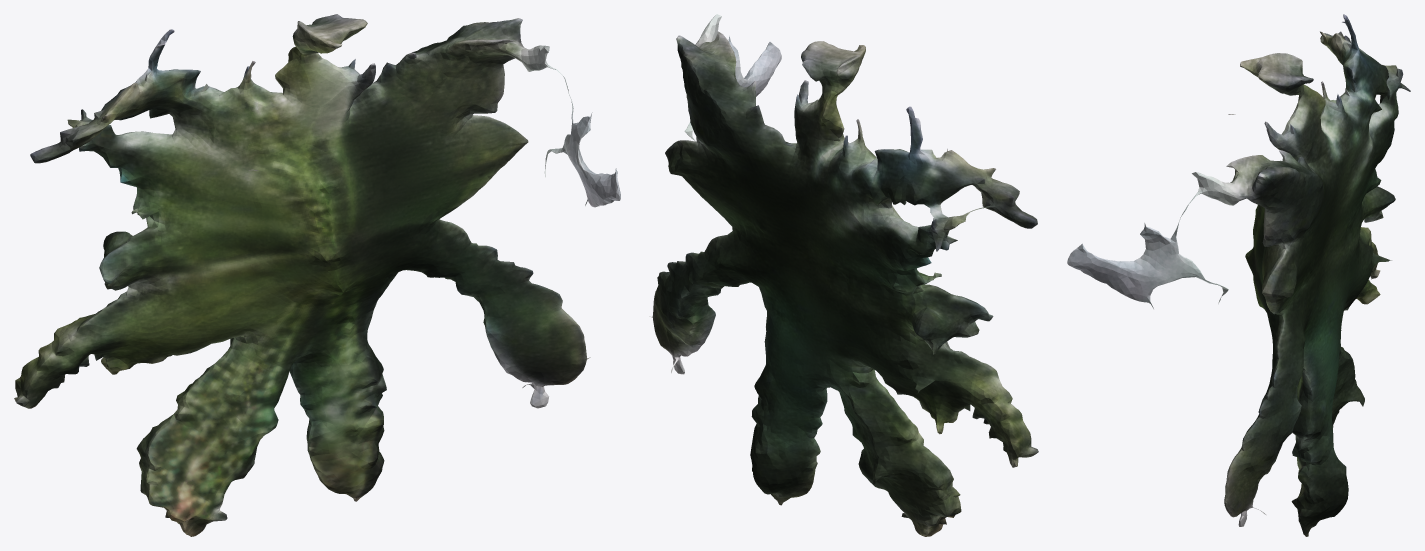
Rendered from plant.glb.
The picture shows the model from 3 angles, left to right: view 1: azimuth 30°, elevation 25°; view 2: azimuth 150°, elevation 25°; view 3: azimuth 270°, elevation 25°; orthographic projection. The views are drawn at different scales.
Size of the model in its own units: 0.914 by 0.8695 by 0.5957.
1 material, 1 textured.
